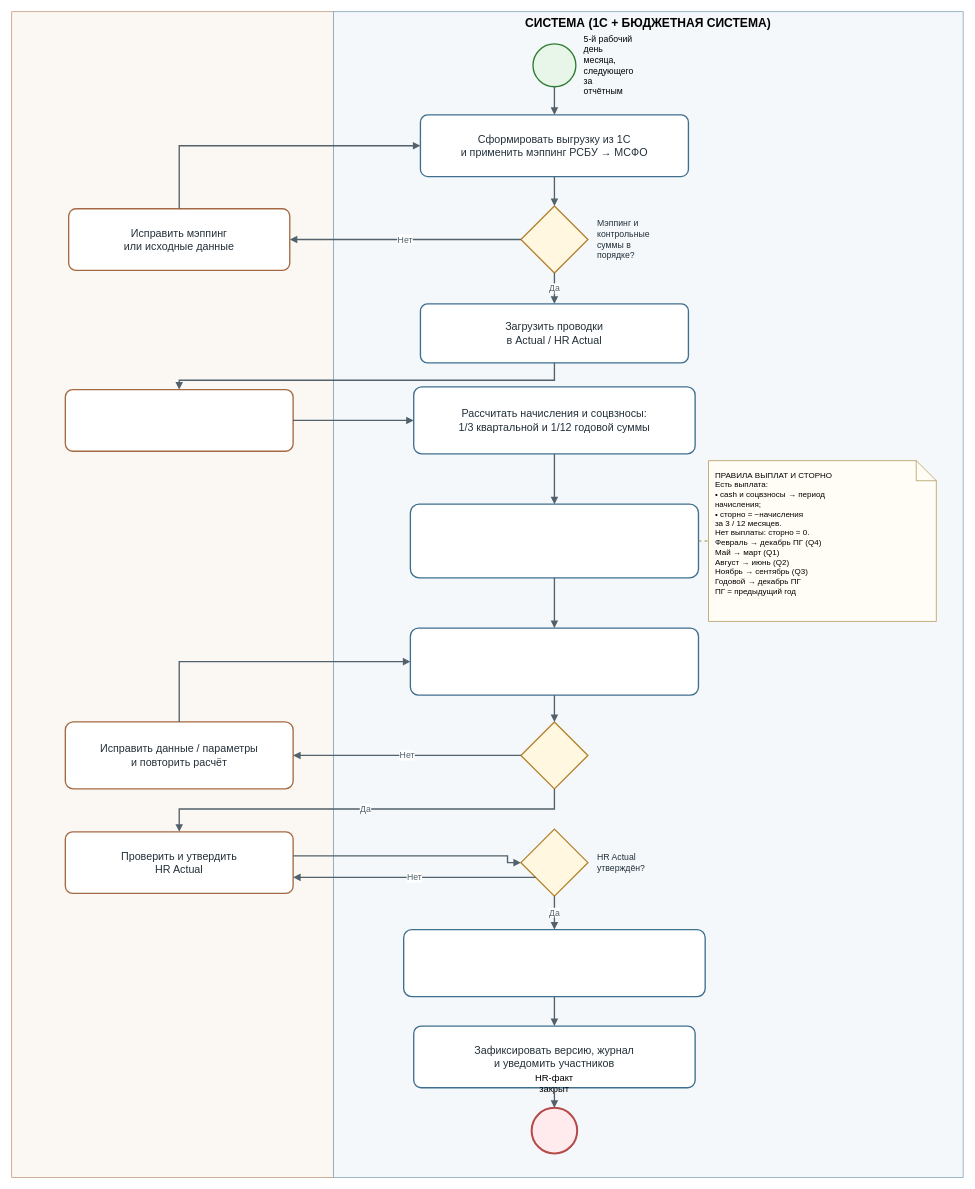
Image size: 975x1189. Some labels were removed from this diagram. The shapes that lost their labels are listed below. From the top down, each one's box as (x1, y1, x2, y2) in pixels, then its label:
(64, 389, 293, 452): Выбрать периметр и версию бюджета / прогноза
(409, 503, 699, 578): Отнести выплаты к периодам начисления и сформировать сторно (или нули)
(11, 11, 333, 1178): ПОЛЬЗОВАТЕЛЬ (HR / ДРП)
(409, 627, 699, 695): Повторить расчёт, сверить итоги и проверить дубли HR Actual
(520, 721, 588, 789): Контроли пройдены?
(403, 929, 706, 997): Передать HR-data в отчётные формы и значения Finance по мэппингу
